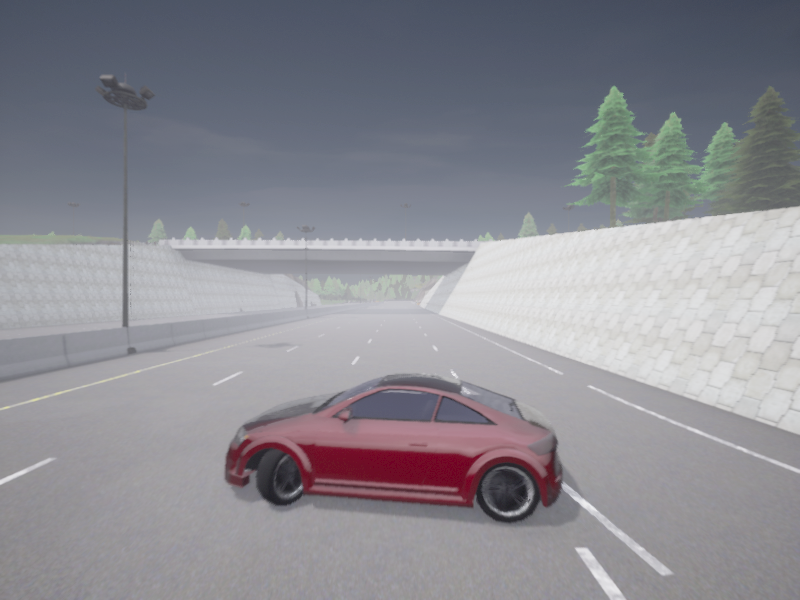vehicle: (224, 372, 561, 523)
